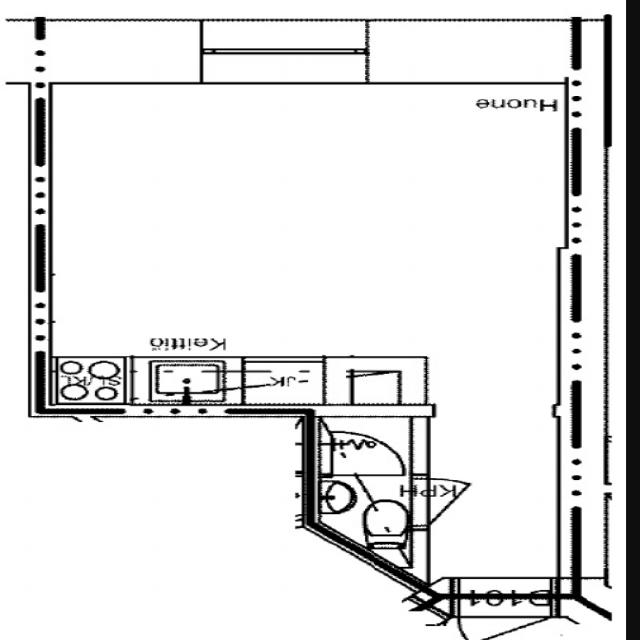door: (410, 477, 521, 530)
